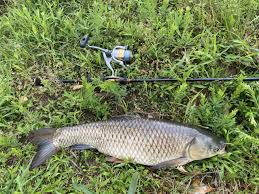carp: (27, 116, 226, 175)
